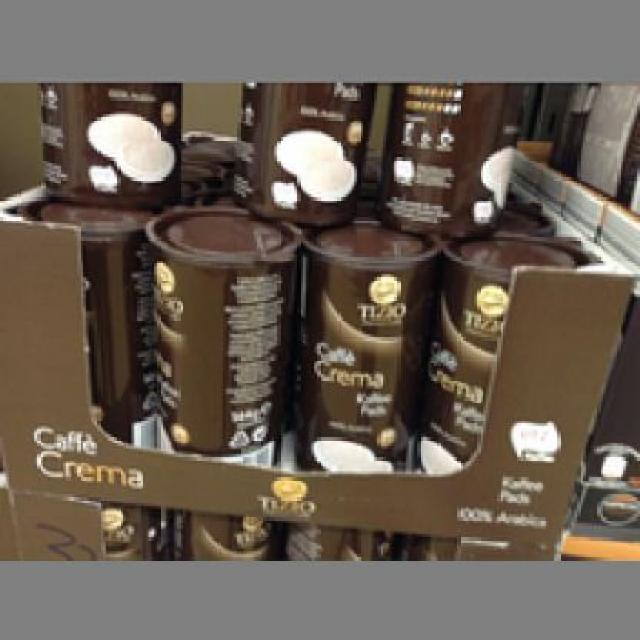Coffee: (143, 200, 300, 469), (420, 225, 583, 478), (291, 214, 440, 472), (32, 80, 180, 200)
